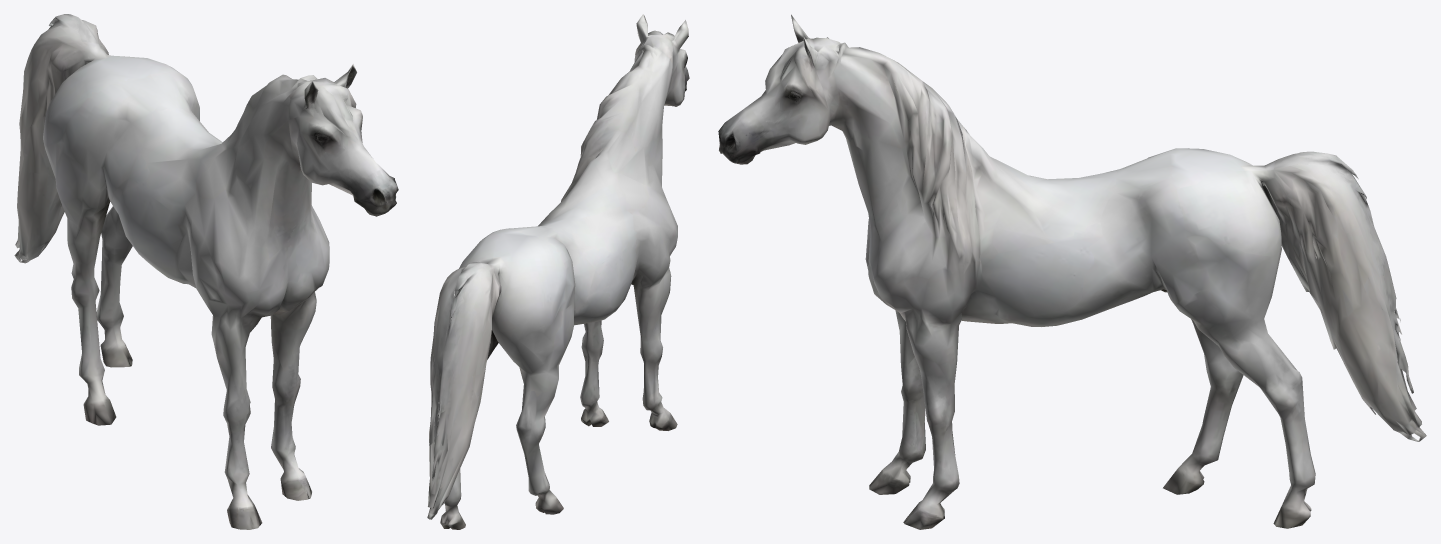
The model's file is animal_horse_white.glb.
3 renders of one model, left to right at view 1: azimuth 30°, elevation 25°; view 2: azimuth 150°, elevation 25°; view 3: azimuth 270°, elevation 25°, orthographic. The views are drawn at different scales.
Visible parts, largest first — view 1: tripo_node_43b77b38-34e1-43ba-b342-924a9da9d04c; view 2: tripo_node_43b77b38-34e1-43ba-b342-924a9da9d04c; view 3: tripo_node_43b77b38-34e1-43ba-b342-924a9da9d04c.
Boxes of the visible parts, x1,y1,x2,y2 form: tripo_node_43b77b38-34e1-43ba-b342-924a9da9d04c: (14, 14, 398, 529); tripo_node_43b77b38-34e1-43ba-b342-924a9da9d04c: (427, 14, 689, 529); tripo_node_43b77b38-34e1-43ba-b342-924a9da9d04c: (718, 14, 1426, 529).
Size of the model in its own units: 0.2123 by 0.7398 by 0.9778.
1 material, 1 textured.
